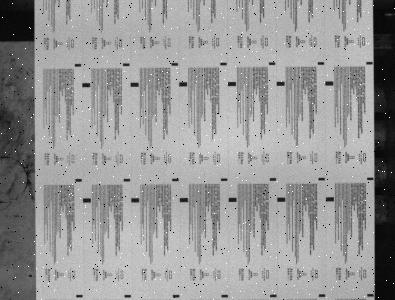qblock: (228, 197, 237, 202), (130, 82, 139, 87), (277, 197, 286, 202), (276, 81, 285, 86), (325, 81, 334, 86), (179, 82, 187, 87), (179, 198, 188, 202), (82, 83, 90, 87), (83, 198, 91, 202), (131, 198, 139, 202), (228, 82, 236, 86), (326, 197, 334, 201)
smallqblock: (74, 63, 81, 67), (220, 62, 227, 66), (75, 178, 82, 182), (123, 178, 130, 182), (366, 61, 373, 65), (221, 294, 229, 297), (172, 294, 180, 297), (269, 178, 277, 181), (124, 294, 131, 297), (270, 294, 277, 297), (76, 294, 83, 297), (319, 294, 326, 297), (123, 63, 130, 66), (269, 62, 276, 65), (171, 63, 178, 66), (367, 293, 374, 296), (221, 178, 228, 181), (172, 178, 179, 181), (318, 177, 325, 180), (367, 177, 374, 180), (318, 62, 324, 65)
